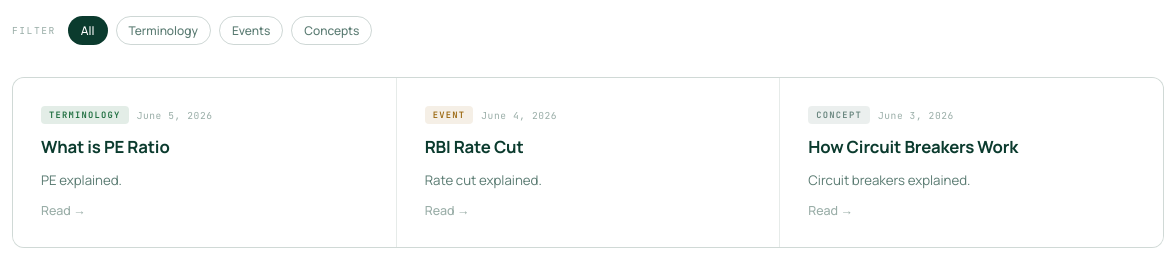
BlogListing › filters to only terminology posts when chip clicked
This screenshot has width=1164, height=265.
Click the button "Terminology" at x=163, y=30, box 116,16 -> 211,45
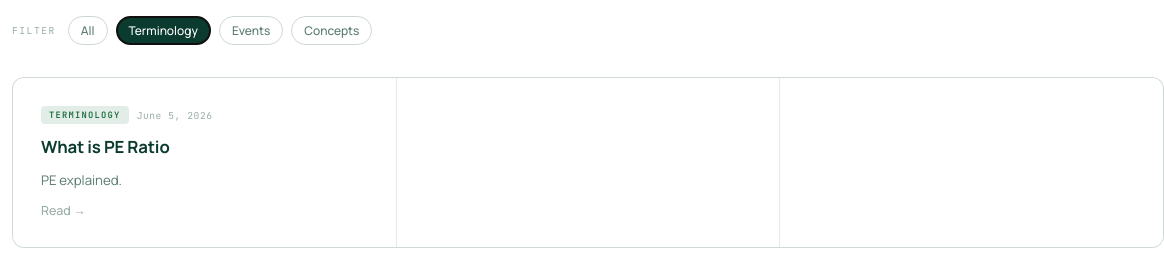
expect the text "What is PE Ratio" is shown: met, box 41,135 -> 170,158
expect the link "RBI Rate Cut" is gone: met
expect the link "How Circuit Breakers Work" is gone: met
